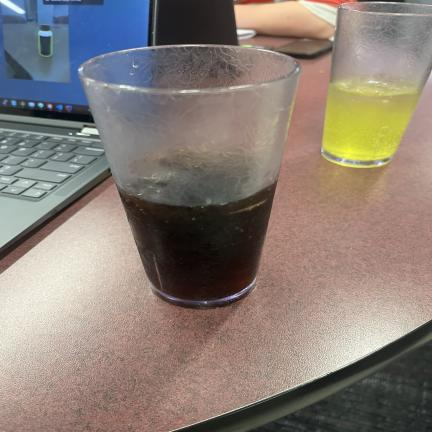container: (80, 45, 301, 308), (321, 2, 432, 168)
fluid: (118, 182, 276, 308), (322, 82, 421, 162)
fluid-surface: (122, 148, 277, 206), (332, 77, 420, 97)
